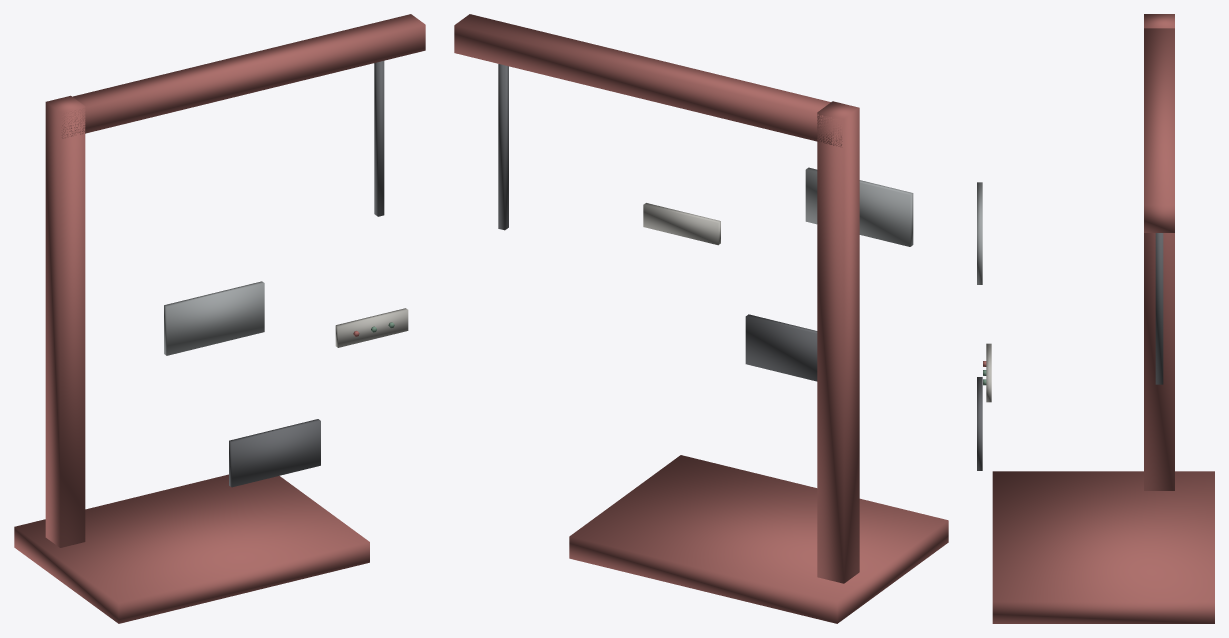
File: chain_hoist__weathered.glb
3 renders of one model, left to right at view 1: azimuth 30°, elevation 25°; view 2: azimuth 150°, elevation 25°; view 3: azimuth 270°, elevation 25°, orthographic. The views are drawn at different scales.
Parts seen in each view (by area): view 1: world; view 2: world; view 3: world.
Boxes of the visible parts, <box> form: world: <box>14,14,425,623</box>; world: <box>454,14,948,623</box>; world: <box>977,14,1214,623</box>.
Bounding box in the file's own units: 1.5 × 1.74 × 0.7709.
